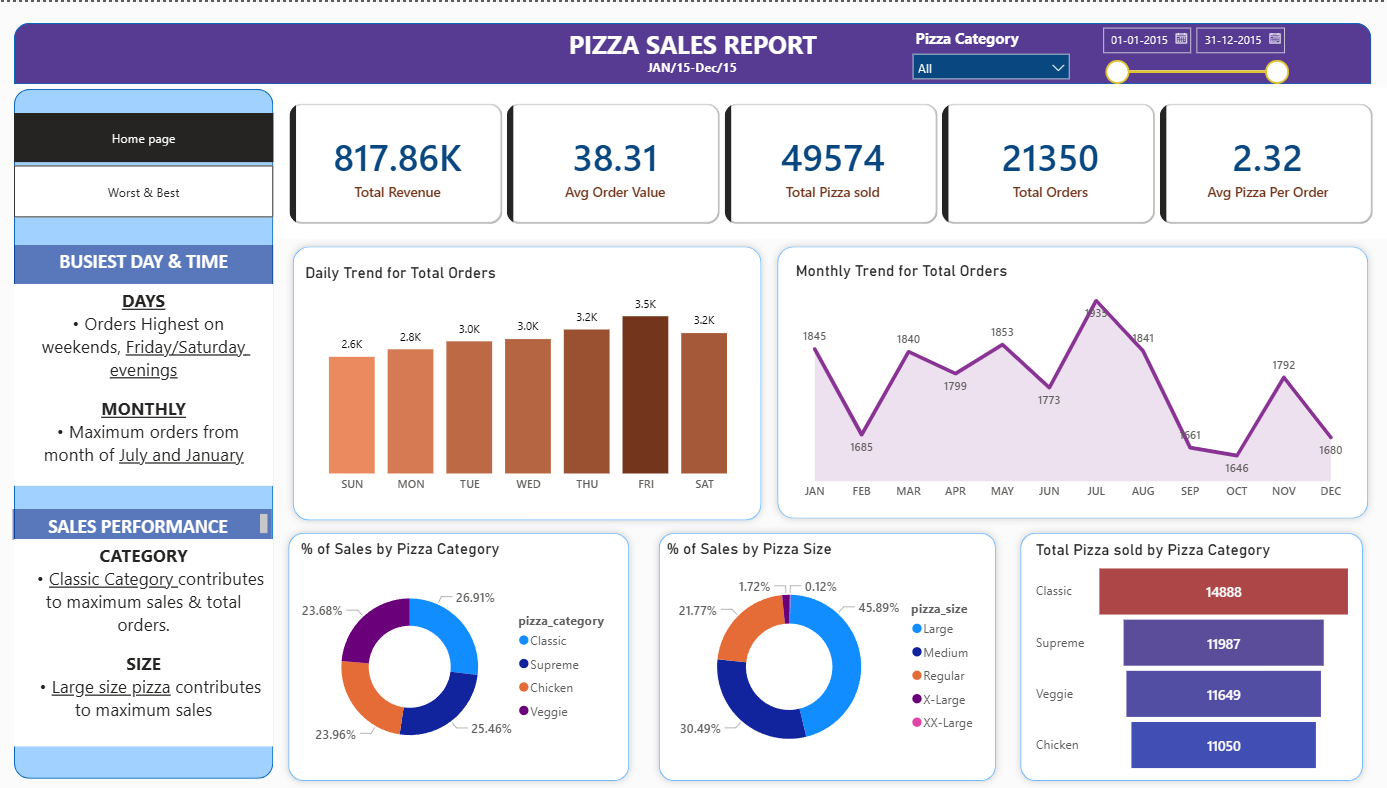

What the dashboard file says about the page in this screenshot:
{"tool":"powerbi","page":{"name":"Home page","canvas":[1500,850],"ordinal":0},"visuals":[{"type":"cardVisual","fields":{"Data":["pizza_sales.total_revenue","pizza_sales.average_order_value","pizza_sales.total_pizza_sold","pizza_sales.total_orders","pizza_sales.avg_pizza_per_order"]},"box":[296,92,1204,164],"z":0},{"type":"shape","box":[16,22,1466,66],"z":1000},{"type":"textbox","box":[604,22,290,48],"z":2000},{"type":"textbox","box":[695.8,55,107.5,35.8],"z":3000},{"type":"shape","box":[310,256,522,312],"z":4000},{"type":"columnChart","title":"Daily Trend for Total Orders","fields":{"Category":["pizza_sales.Order Day"],"Y":["pizza_sales.Total Orders"]},"box":[326,282,492,266],"z":5000},{"type":"shape","box":[832,256,654,310],"z":6000},{"type":"areaChart","title":"Monthly Trend for Total Orders","fields":{"Category":["pizza_sales.Order Month"],"Y":["pizza_sales.Total Orders"]},"box":[856,280,608,266],"z":7000},{"type":"shape","box":[304,566,384,284],"z":8000},{"type":"shape","box":[1096,566,386,284],"z":9000},{"type":"shape","box":[704,566,380,284],"z":10000},{"type":"donutChart","title":"% of Sales by Pizza Category","fields":{"Y":["pizza_sales.Total Revenue"],"Category":["pizza_sales.pizza_category"]},"box":[320,580,354,256],"z":11000},{"type":"donutChart","title":"% of Sales by Pizza Size","fields":{"Y":["pizza_sales.Total Revenue"],"Category":["pizza_sales.pizza_size"]},"box":[716,580,354,256],"z":12000},{"type":"funnel","title":"Total Pizza sold by Pizza Category","fields":{"Category":["pizza_sales.pizza_category"],"Y":["pizza_sales.Total Pizza sold"]},"box":[1114,582,352,256],"z":13000},{"type":"shape","box":[16.7,93.3,280,745],"z":14000},{"type":"textbox","box":[16.7,261.7,280,41.7],"z":14001},{"type":"textbox","box":[16,304,280,218],"z":14002},{"type":"textbox","box":[15,548.3,280,33.3],"z":14003},{"type":"textbox","box":[16,580,280,224],"z":14004},{"type":"slicer","fields":{"Values":["pizza_sales.pizza_category"]},"box":[976.9,22.7,189.6,64.8],"z":14005},{"type":"slicer","fields":{"Values":["pizza_sales.order_date"]},"box":[1179.4,17.8,222,74.5],"z":14006},{"type":"pageNavigator","box":[16.7,120,280,53.3],"z":14007},{"type":"pageNavigator","box":[16.7,176.7,280,56.7],"z":14008}]}

Visuals, with their boxes in screenshot pixels (x1, y1, x2, y2), scaled from the page's 1500x850 canvas onto the 1387x788 screenshot:
cardVisual - pizza_sales.total_revenue x pizza_sales.average_order_value: bbox(274, 85, 1386, 237)
shape: bbox(15, 20, 1370, 82)
textbox: bbox(558, 20, 827, 65)
textbox: bbox(643, 51, 743, 84)
shape: bbox(287, 237, 769, 527)
"Daily Trend for Total Orders" columnChart: bbox(301, 261, 756, 508)
shape: bbox(769, 237, 1374, 525)
"Monthly Trend for Total Orders" areaChart: bbox(792, 260, 1354, 506)
shape: bbox(281, 525, 636, 787)
shape: bbox(1013, 525, 1370, 787)
shape: bbox(651, 525, 1002, 787)
"% of Sales by Pizza Category" donutChart: bbox(296, 538, 623, 775)
"% of Sales by Pizza Size" donutChart: bbox(662, 538, 989, 775)
"Total Pizza sold by Pizza Category" funnel: bbox(1030, 540, 1356, 777)
shape: bbox(15, 86, 274, 777)
textbox: bbox(15, 243, 274, 281)
textbox: bbox(15, 282, 274, 484)
textbox: bbox(14, 508, 273, 539)
textbox: bbox(15, 538, 274, 745)
slicer - pizza_sales.pizza_category: bbox(903, 21, 1079, 81)
slicer - pizza_sales.order_date: bbox(1091, 17, 1296, 86)
pageNavigator: bbox(15, 111, 274, 161)
pageNavigator: bbox(15, 164, 274, 216)
